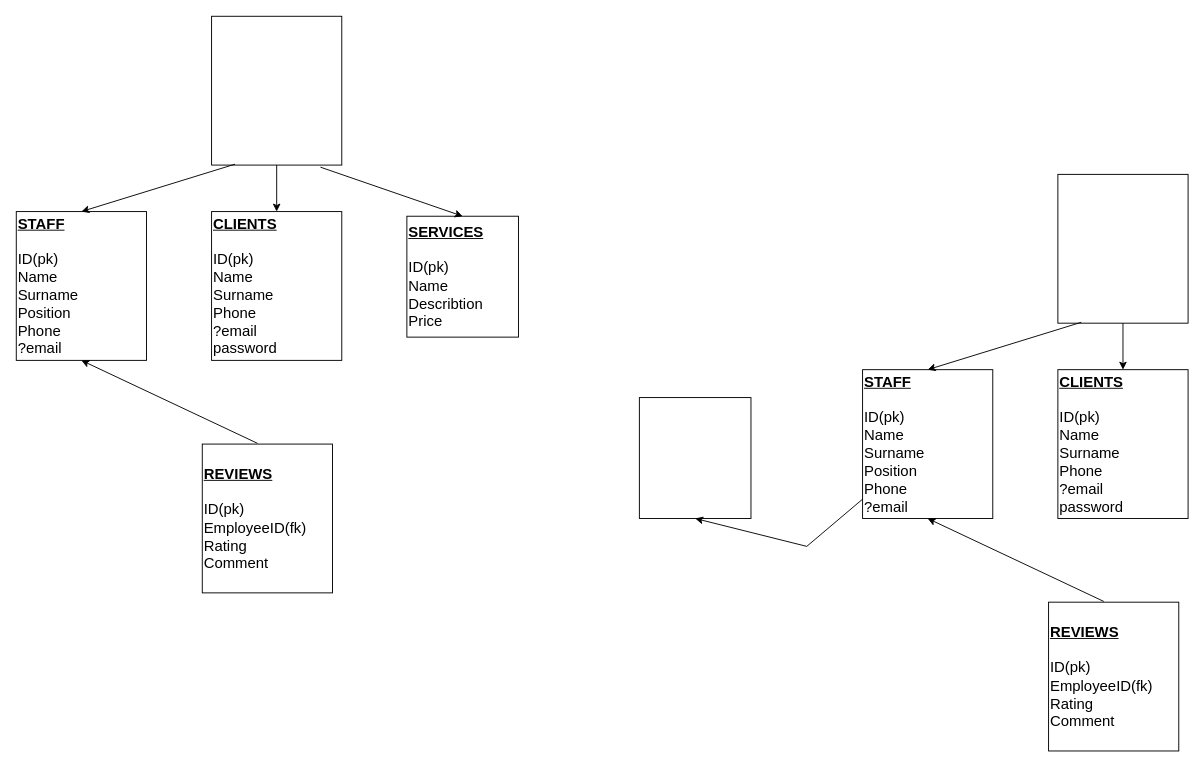
The diagram is 1204 pixels wide and 767 high, and some of its shapes have lost their labels. Here are the shapes that lost their labels. From the top down, the centre of each, then its label:
At (276,90): "REGISTRATION ID(pk) ClientID(fk) ServiceID(fk) EmployeeID(fk) DateTime Notes".
At (1122,248): "REGISTRATION ID(pk) ClientID(fk) ServiceID(fk)? EmployeeID(fk) DateTime Notes".
At (694,457): "SERVICES ID(pk) Name?(fk) Describtion Price".
